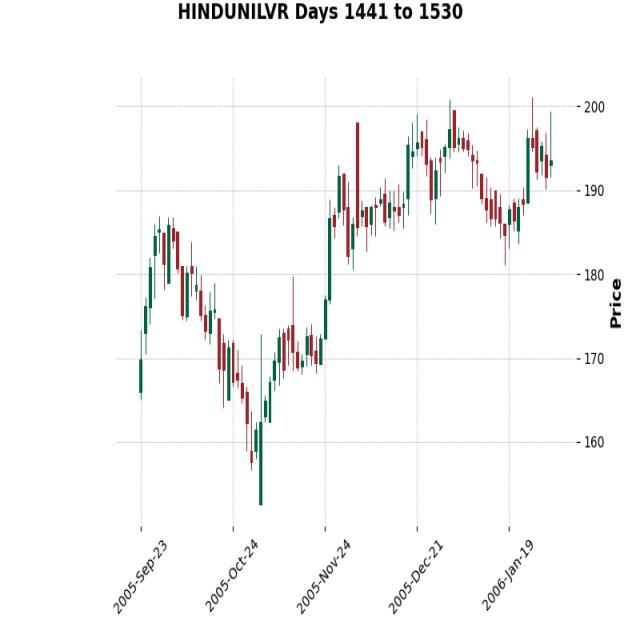Cup and Handle: (162, 175, 364, 492)
